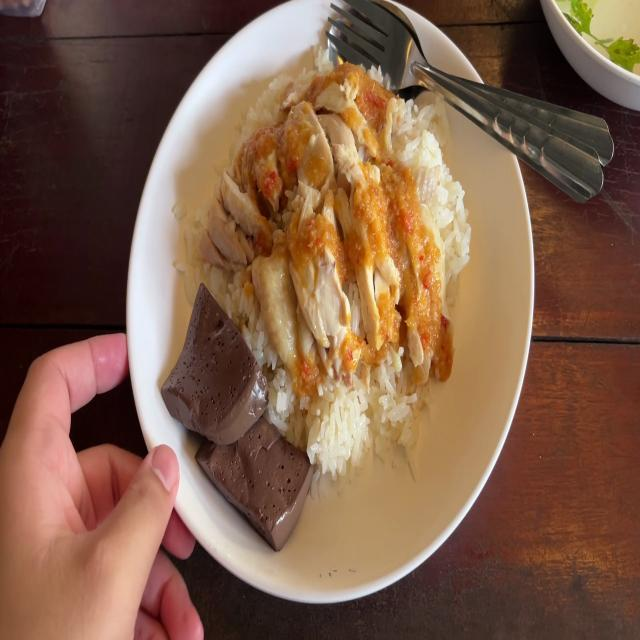chicken_rice: (227, 77, 423, 365)
noodle: (154, 280, 264, 458), (196, 381, 308, 536)
